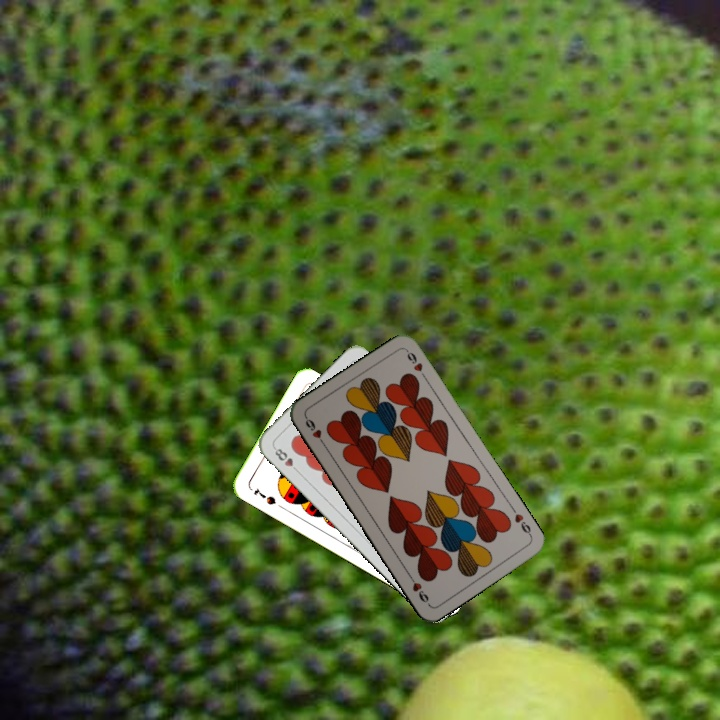H8: (270, 443, 302, 475)
H9: (301, 413, 328, 449), (510, 509, 535, 539)
S7: (250, 483, 278, 507)
